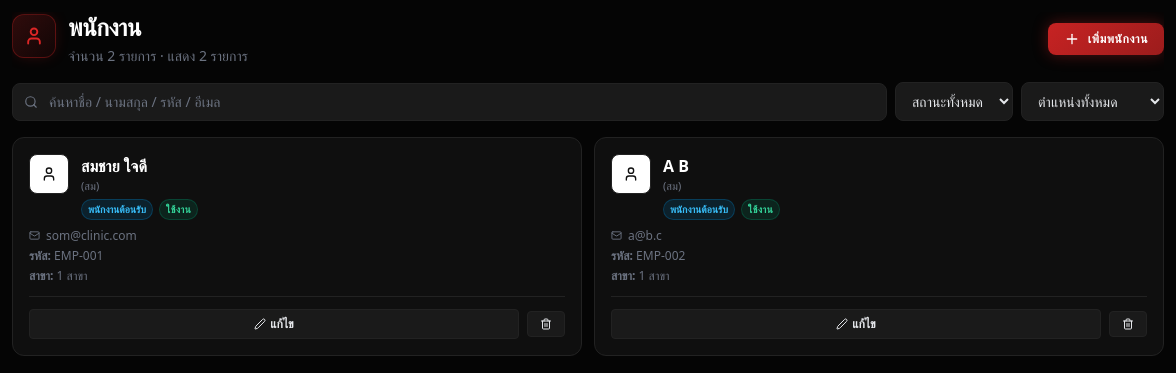
StaffTab › ST3: search filters by employee code
Expected: the heading "สมชาย ใจดี" is shown, [81,155,147,177]
In the field with placeholder "ค้นหาชื่อ / นามสกุล / รหัส / อีเมล": (450, 102) [12,82,887,120], type "EMP-002"
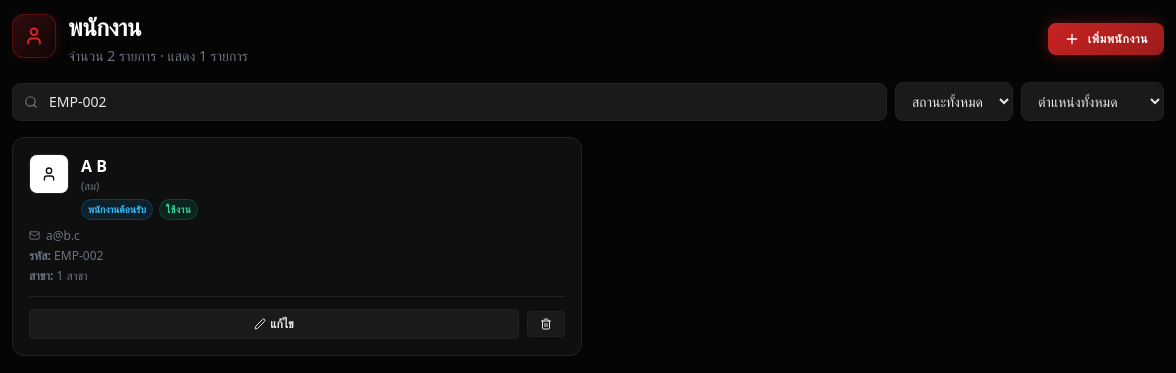
Expected: the heading "A B" is shown, [81,155,107,177]
Now the heading "สมชาย ใจดี" is gone
